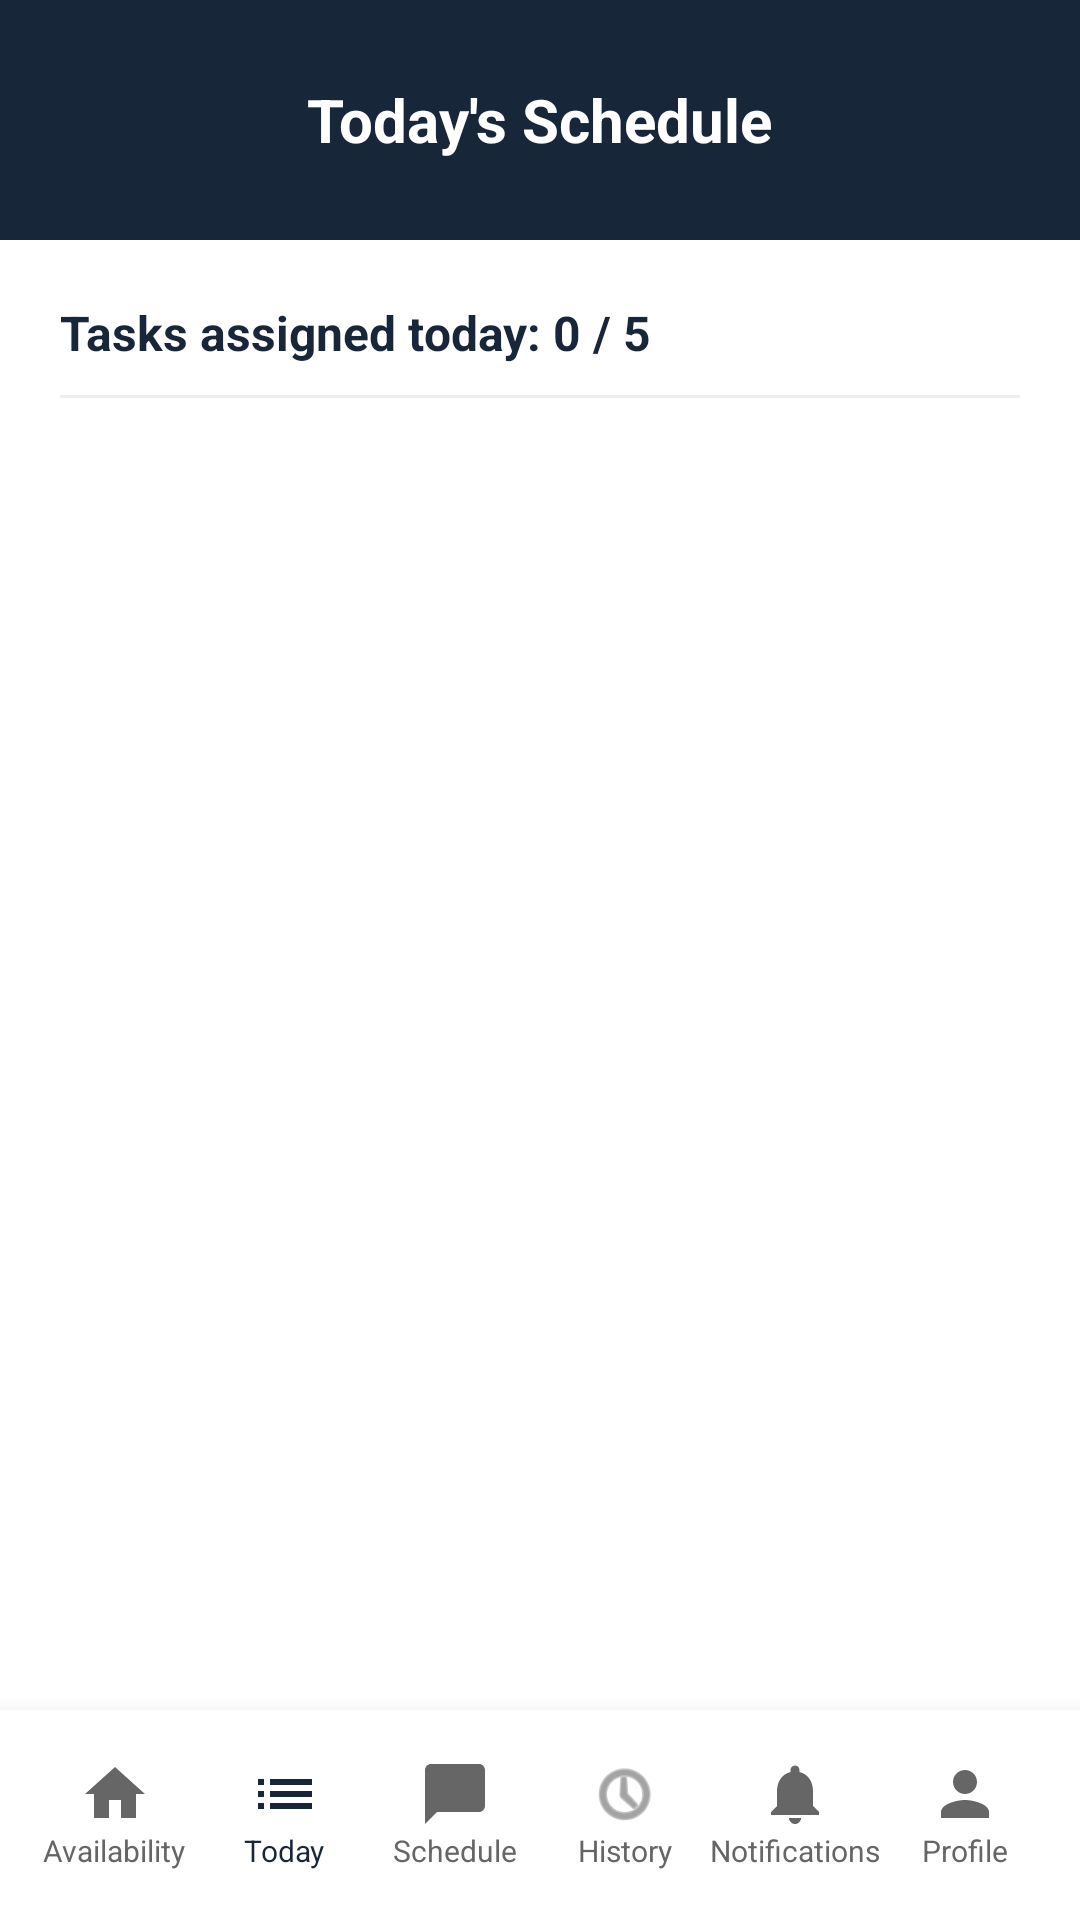

Icon bounding boxes for this 1080px×1920px phone screenshot, format (x1, y1, x2, y2):
home: (85, 1767, 145, 1818)
messages: (425, 1764, 485, 1824)
